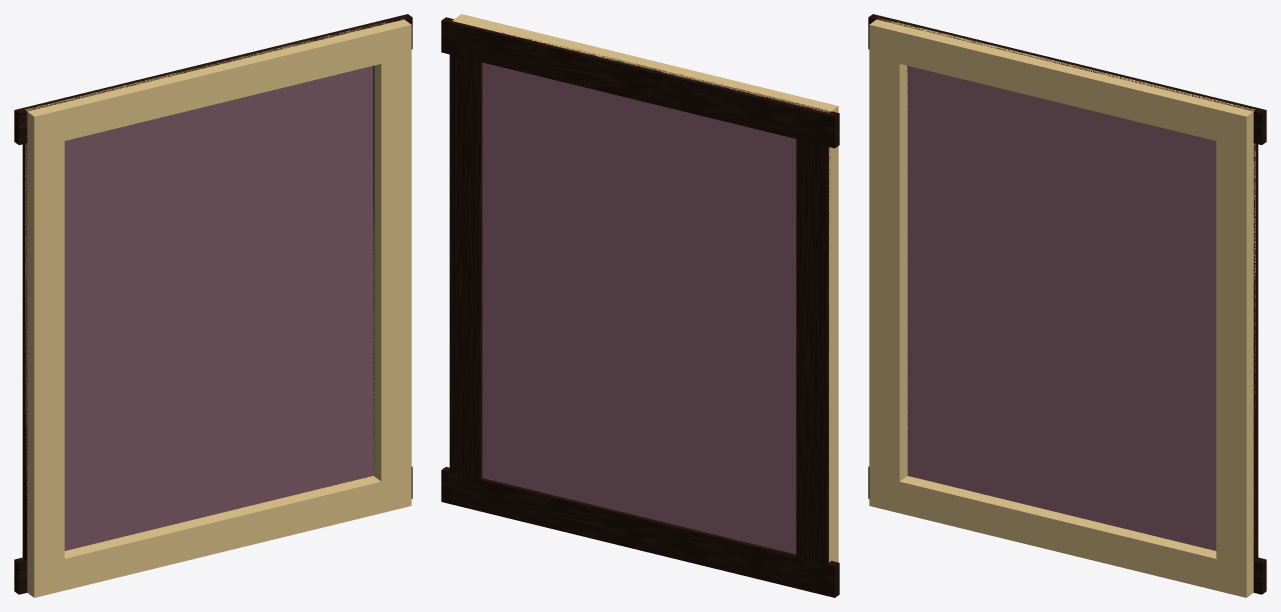
File: mm_frame.glb
3 views of the same model, side by side, from view 1: azimuth 30°, elevation 25°; view 2: azimuth 150°, elevation 25°; view 3: azimuth 330°, elevation 25° (orthographic).
Parts seen in each view (by area): view 1: plate, gold, wood_dark; view 2: plate, wood_dark, gold; view 3: plate, gold, wood_dark.
Part boxes in pixels (x1,y1,x2,y2): plate: (64, 66, 373, 550); gold: (25, 19, 411, 597); wood_dark: (14, 14, 412, 594); plate: (482, 62, 796, 554); wood_dark: (441, 17, 839, 597); gold: (452, 14, 838, 562); plate: (907, 66, 1216, 550); gold: (869, 18, 1255, 597); wood_dark: (868, 14, 1266, 594).
Size of the model in its own units: 2.86 by 3.34 by 0.15.
Materials: 3 (1 with a texture image).
